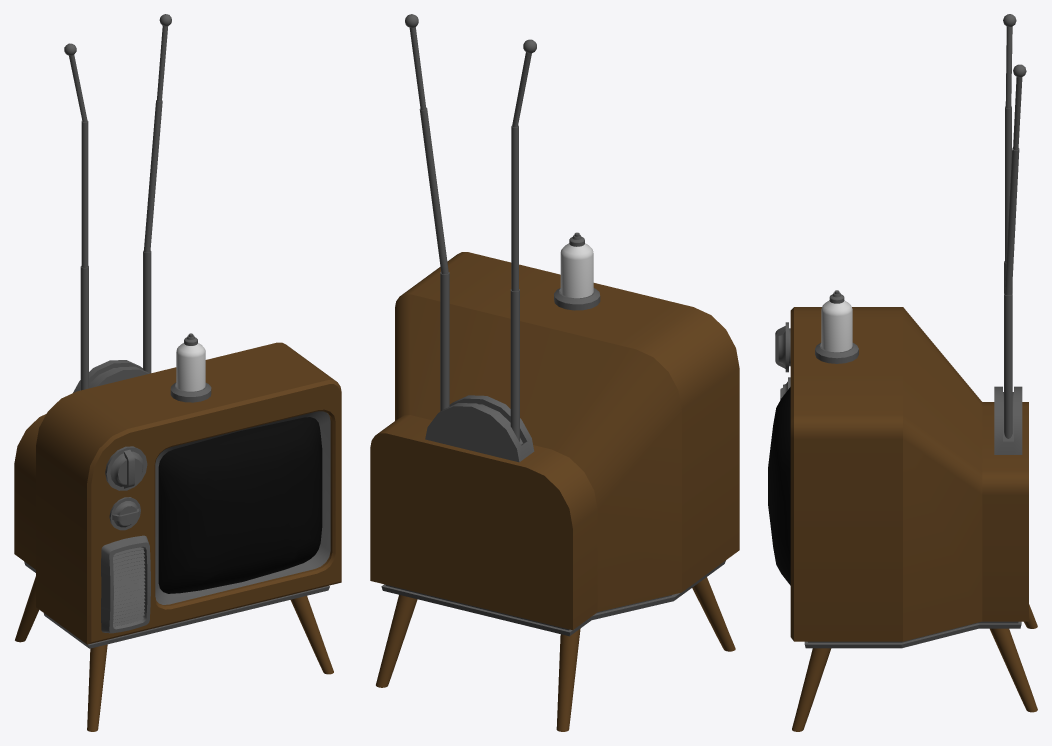
3 renders of one model, left to right at view 1: azimuth 30°, elevation 25°; view 2: azimuth 150°, elevation 25°; view 3: azimuth 270°, elevation 25°, orthographic. The views are drawn at different scales.
Parts seen in each view (by area): view 1: Plane, Circle.003, Cylinder.001, Cylinder, Plane.003, Plane.002, Circle.006, Circle.001, Circle, Circle.002, Circle.007; view 2: Plane, Circle, Circle.003, Cylinder, Cylinder.001, Circle.006, Circle.007; view 3: Plane, Cylinder, Circle.003, Circle.006, Circle, Cylinder.001, Circle.001, Circle.007.
Part boxes in pixels (box(x1,y1,x2,y2)): Plane: box(14, 342, 341, 648); Circle.003: box(15, 576, 333, 731); Cylinder.001: box(64, 43, 88, 390); Cylinder: box(143, 14, 171, 373); Plane.003: box(113, 547, 145, 626); Plane.002: box(101, 535, 150, 633); Circle.006: box(176, 333, 205, 391); Circle.001: box(105, 446, 147, 490); Circle: box(73, 360, 149, 392); Circle.002: box(109, 497, 140, 530); Circle.007: box(170, 382, 211, 402); Plane: box(370, 252, 739, 636); Circle: box(425, 395, 534, 462); Circle.003: box(376, 577, 735, 731); Cylinder: box(405, 14, 449, 411); Cylinder.001: box(510, 39, 536, 441); Circle.006: box(560, 232, 593, 298); Circle.007: box(554, 288, 600, 310); Plane: box(768, 307, 1028, 648); Cylinder: box(1004, 64, 1026, 438); Circle.003: box(792, 604, 1037, 731); Circle.006: box(821, 290, 852, 352); Circle: box(994, 386, 1022, 454); Cylinder.001: box(1003, 14, 1016, 293); Circle.001: box(775, 322, 790, 372); Circle.007: box(815, 343, 858, 363).
Size of the model in its own units: 322 by 719 by 277.
